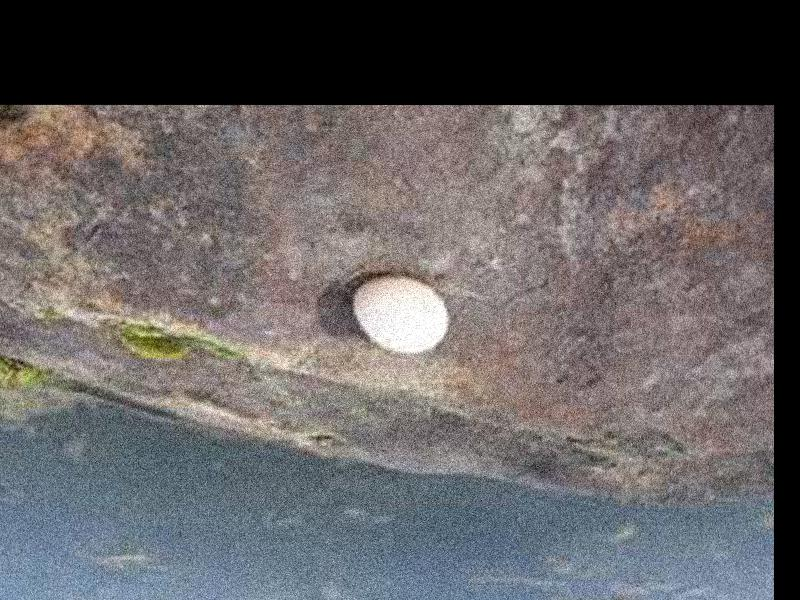Eggs: (354, 277, 453, 355)
